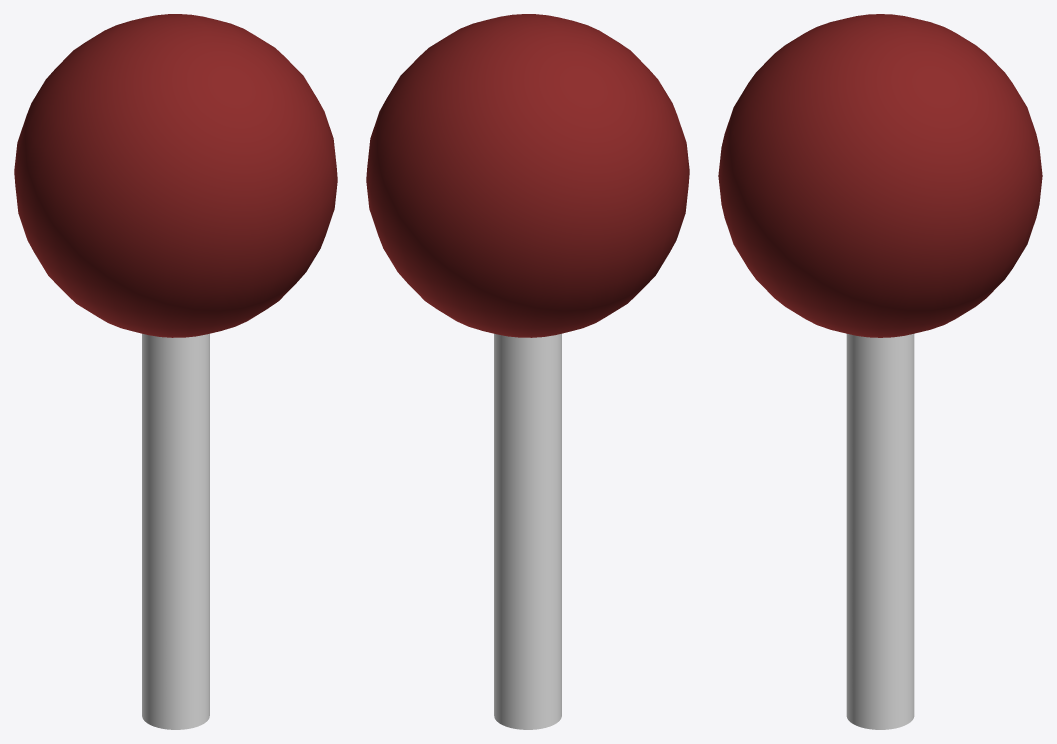
Rendered from lever_ball.fbx.
3 renders of one model, left to right at view 1: azimuth 30°, elevation 25°; view 2: azimuth 150°, elevation 25°; view 3: azimuth 270°, elevation 25°, orthographic.
Visible parts, largest first — view 1: lever_ball.007; view 2: lever_ball.007; view 3: lever_ball.007.
Boxes of the visible parts, box(x1,y1,x2,y2) form: lever_ball.007: box(14, 14, 337, 729); lever_ball.007: box(366, 14, 689, 729); lever_ball.007: box(718, 14, 1042, 729).
Bounding box in the file's own units: 21.39 × 49.98 × 21.39.
